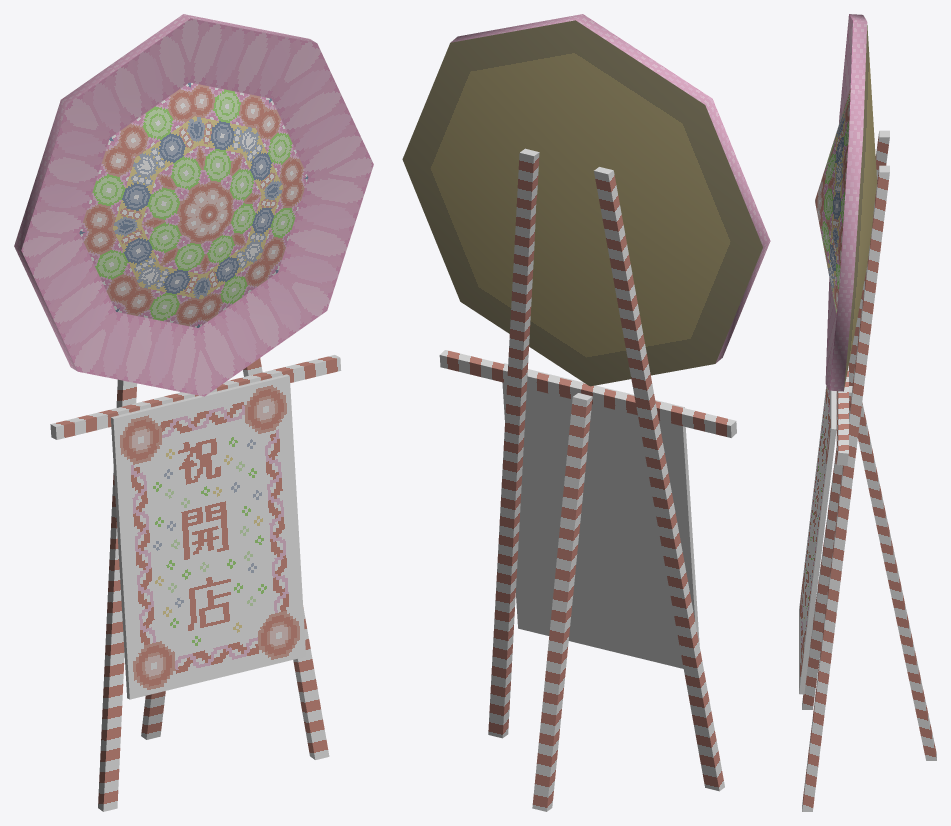
The model's file is 0298_Grand_Opening.glb.
3 renders of one model, left to right at view 1: azimuth 30°, elevation 25°; view 2: azimuth 150°, elevation 25°; view 3: azimuth 270°, elevation 25°, orthographic. The views are drawn at different scales.
Parts seen in each view (by area): view 1: part_0; view 2: part_0; view 3: part_0.
Part boxes in pixels (x1,y1,x2,y2): part_0: (14, 14, 373, 811); part_0: (402, 14, 770, 811); part_0: (799, 14, 936, 811).
Bounding box in the file's own units: 1.5 × 3.04 × 0.5149.
1 material, 1 textured.
